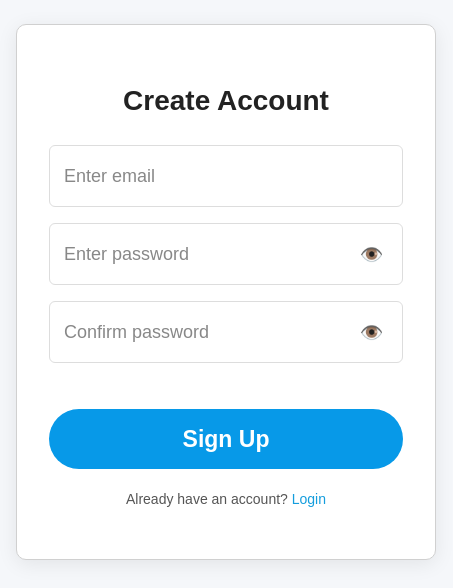
Scenario: Signup Page › 5. shows error when fields are empty
The image size is (453, 588).
Click the button "Sign Up". click: click(226, 439)
box: [49, 409, 403, 469]
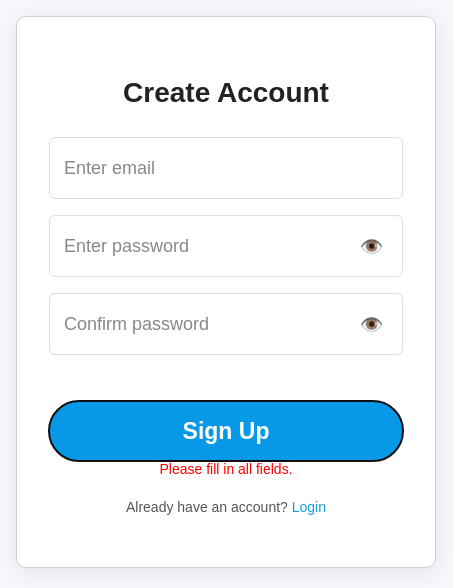
expect the text "Please fill in all fields." is shown: met, box [160, 461, 293, 477]
